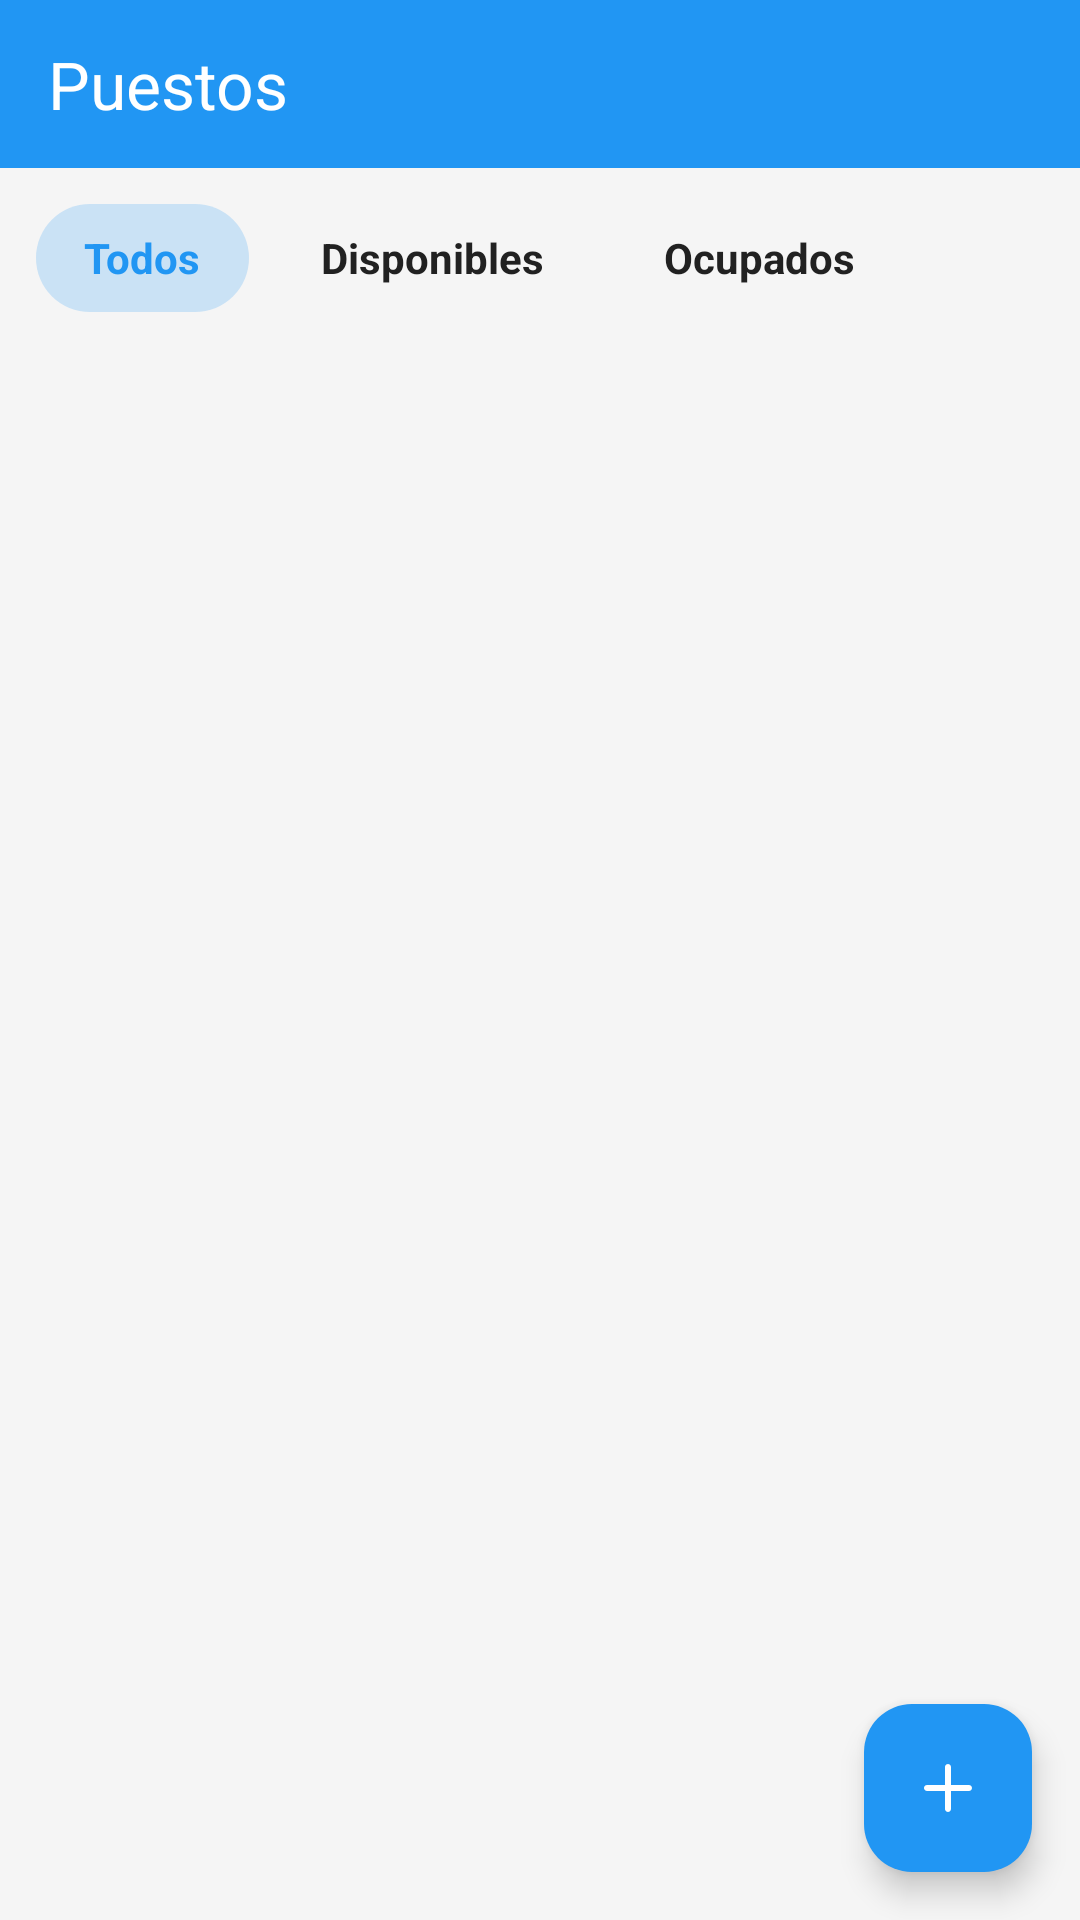

Icons on this 1080 x 1920 Android screen, each with the point to tap as [x,y]:
Agregar Puesto: [948,1788]
